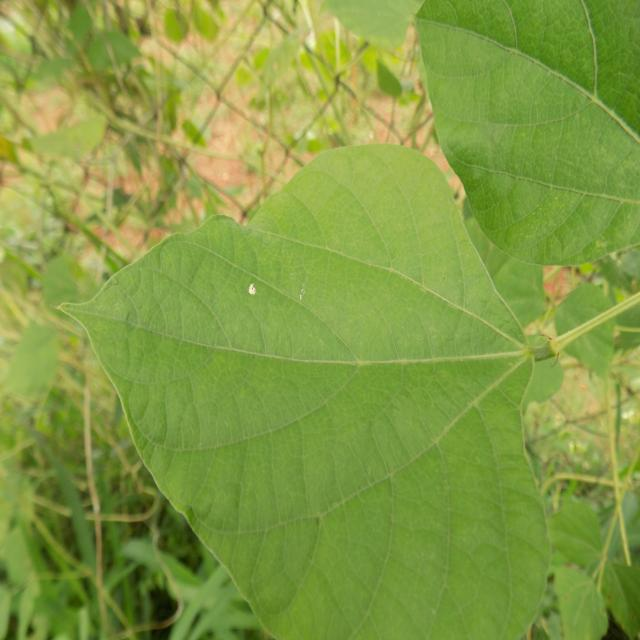Dolicos bean_healthy: (52, 143, 552, 640)
